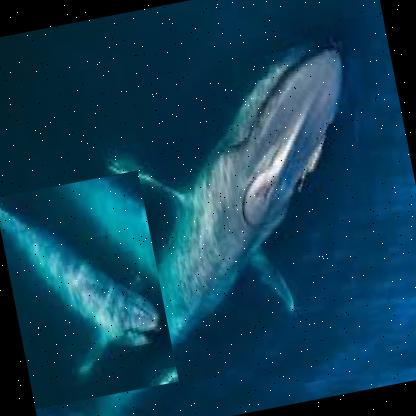blue_whale: (21, 0, 415, 415), (0, 168, 180, 409)
